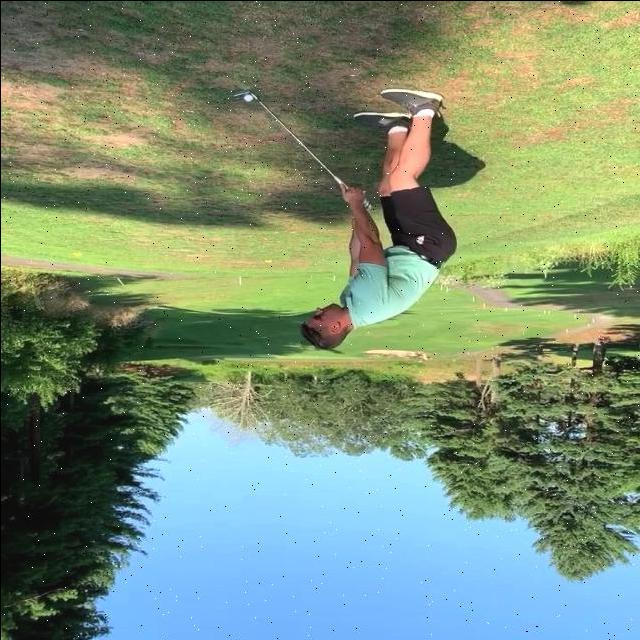golf ball: (242, 93, 252, 102)
golf club-handle: (226, 83, 367, 212)
golf club-head: (226, 85, 249, 96)
